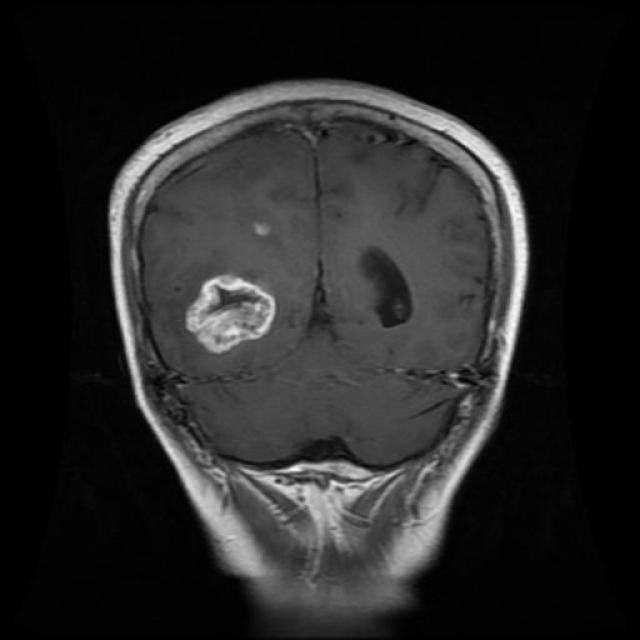Brain-Tumor: (177, 266, 285, 364)
